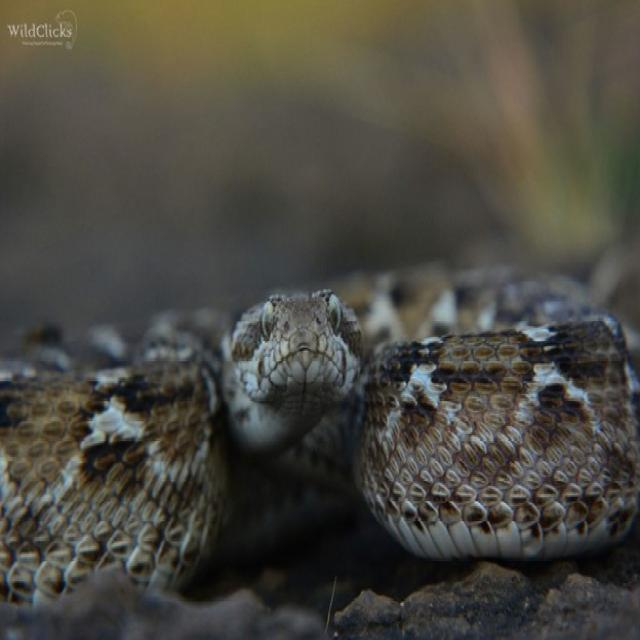Snake: (0, 260, 639, 609)
